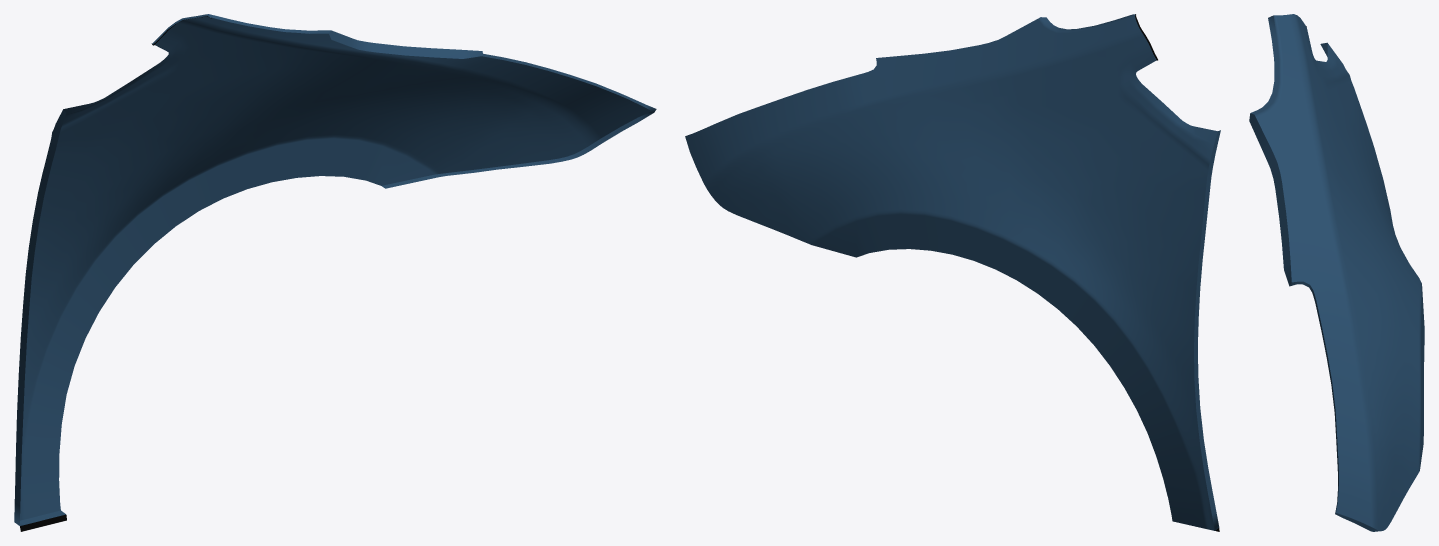
3 views of the same model, side by side, from view 1: azimuth 30°, elevation 25°; view 2: azimuth 150°, elevation 25°; view 3: azimuth 270°, elevation 25° (orthographic). The views are drawn at different scales.
Visible parts, largest first — view 1: Y191_13_121B_L_1_DaS_Y191_13_121B_L, Y191_13_121B_L_1_DaS_Y191_13_121B_L_E; view 2: Y191_13_121B_L_1_DaS_Y191_13_121B_L, Y191_13_121B_L_1_DaS_Y191_13_121B_L_E; view 3: Y191_13_121B_L_1_DaS_Y191_13_121B_L, Y191_13_121B_L_1_DaS_Y191_13_121B_L_E.
Part boxes in pixels (bbox=[...]): Y191_13_121B_L_1_DaS_Y191_13_121B_L: bbox=[20, 16, 651, 520]; Y191_13_121B_L_1_DaS_Y191_13_121B_L_E: bbox=[14, 14, 656, 525]; Y191_13_121B_L_1_DaS_Y191_13_121B_L: bbox=[685, 14, 1217, 530]; Y191_13_121B_L_1_DaS_Y191_13_121B_L_E: bbox=[1041, 14, 1220, 530]; Y191_13_121B_L_1_DaS_Y191_13_121B_L: bbox=[1255, 14, 1424, 530]; Y191_13_121B_L_1_DaS_Y191_13_121B_L_E: bbox=[1249, 15, 1380, 531].
Size of the model in its own units: 92.07 by 73.29 by 21.11.
